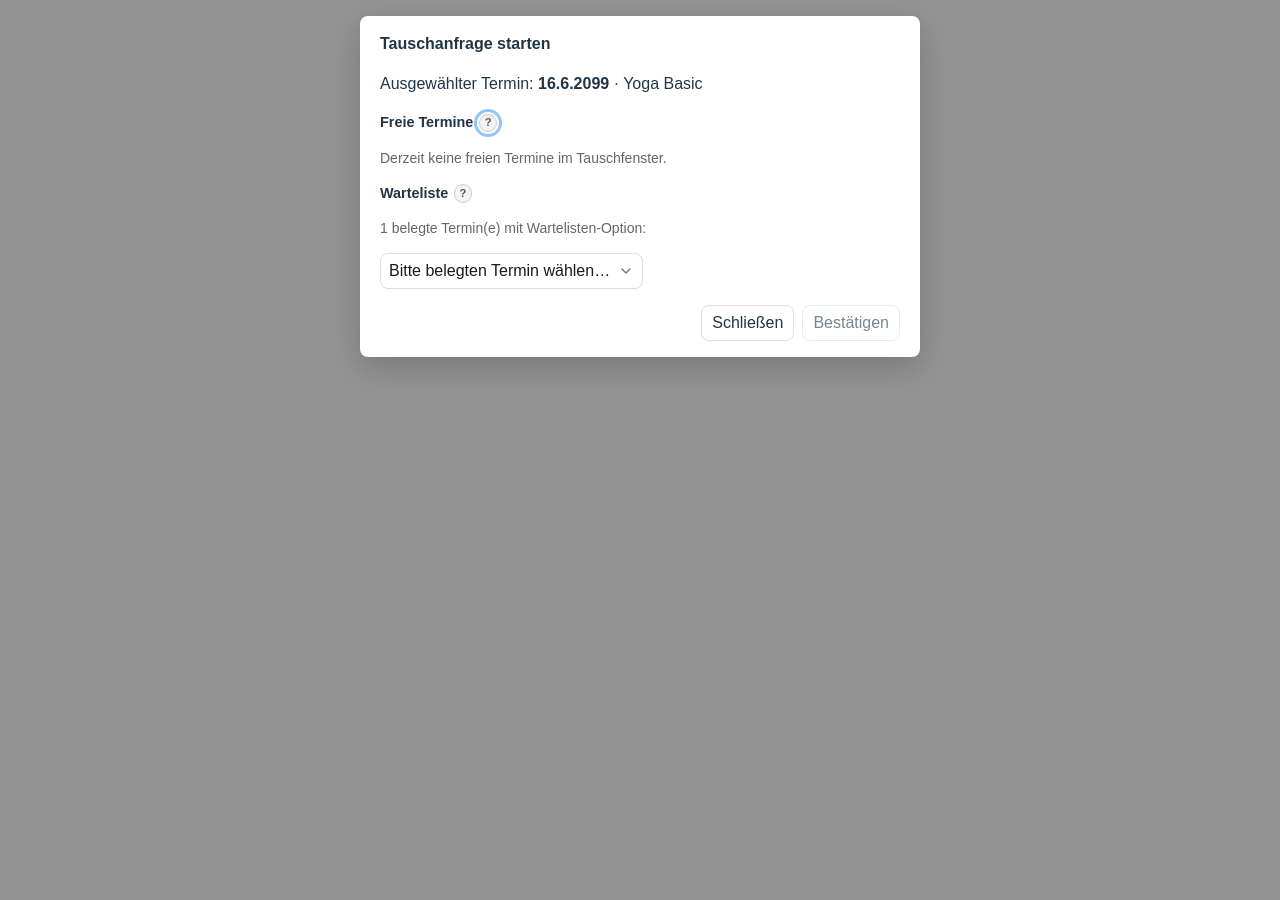
it: CourseSwapModal › zeigt Hinweise vor Bestätigung einer Wartelisten-Anfrage
The width and height of the screenshot is (1280, 900).
Click the dropdown named "Belegten Termin für Warteliste wählen". click: (512, 271)
box: x1=380 y1=253 x2=643 y2=289
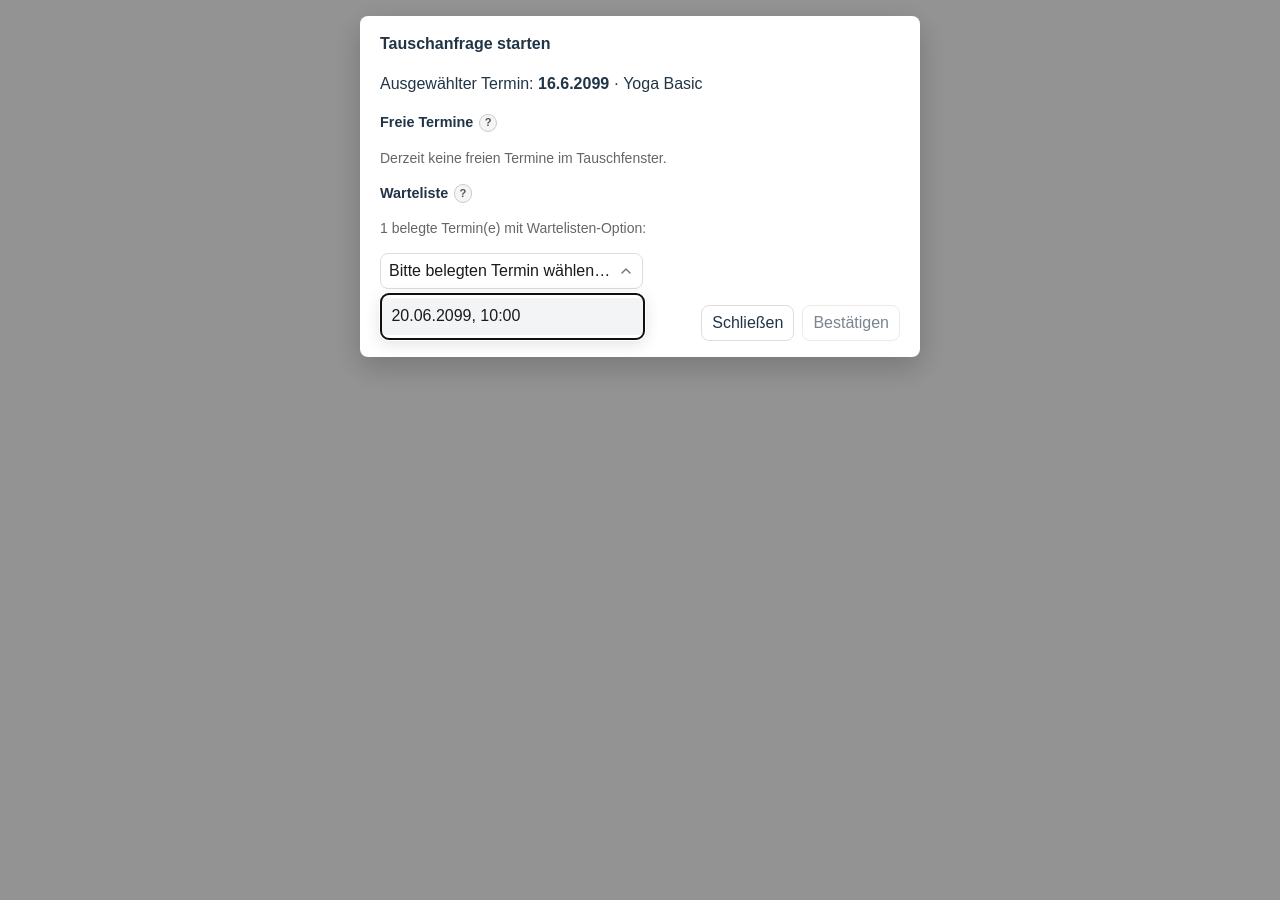
Click the option "20.06.2099, 10:00". click: (513, 316)
box: x1=381 y1=298 x2=644 y2=335
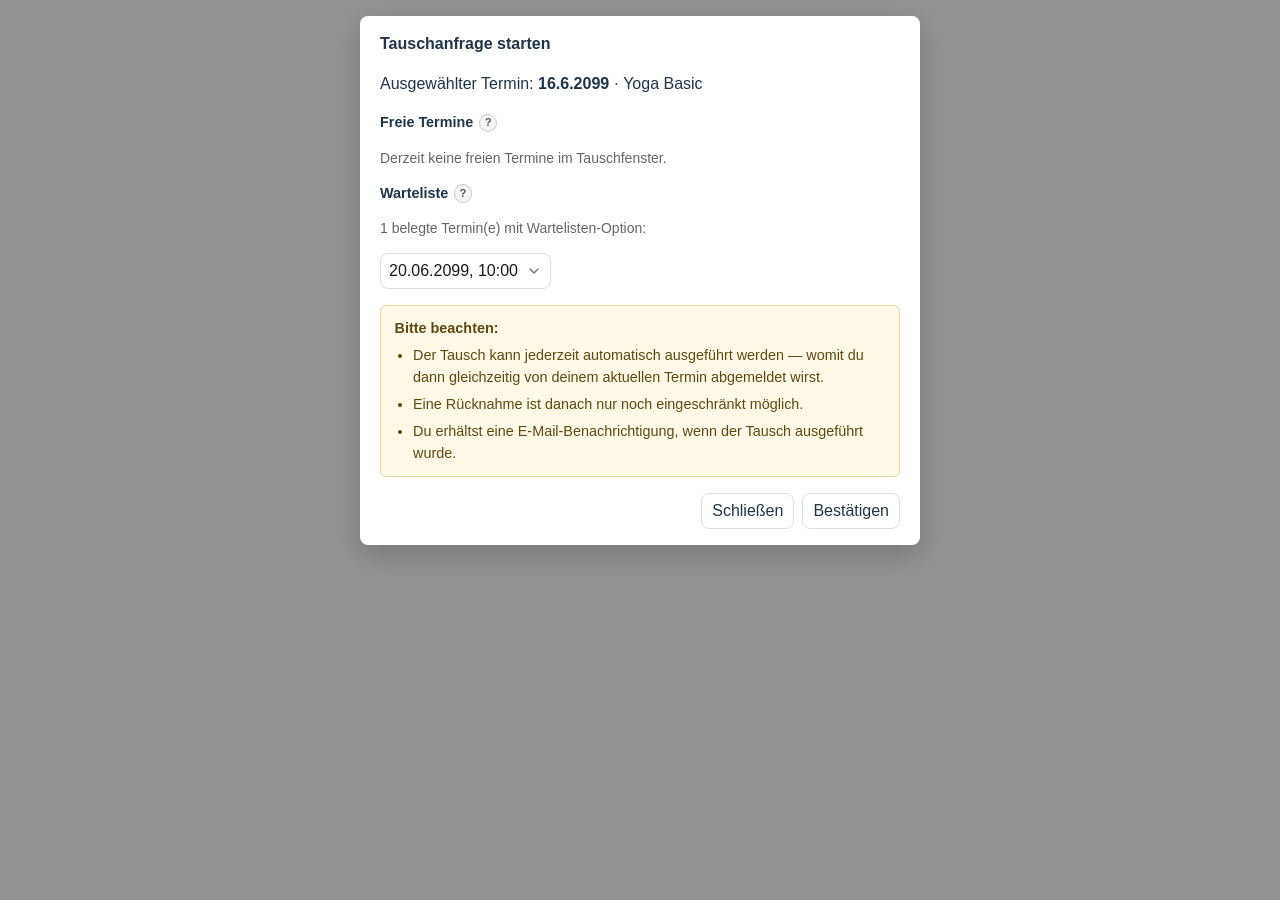
Result: the element named "Hinweise vor dem Tausch" shows "Der Tausch kann jederzeit automatisch ausgeführt werden — womit du dann gleichzeitig von deinem aktuellen Termin abgemeldet wirst." at x1=413 y1=347 x2=864 y2=385
Result: the element named "Hinweise vor dem Tausch" shows "Eine Rücknahme ist danach nur noch eingeschränkt möglich." at x1=413 y1=396 x2=803 y2=412
Result: the element named "Hinweise vor dem Tausch" shows "Du erhältst eine E-Mail-Benachrichtigung, wenn der Tausch ausgeführt wurde." at x1=413 y1=423 x2=863 y2=461
